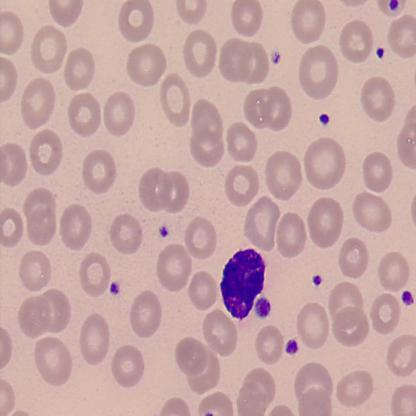Basophil: (217, 246, 267, 320)
